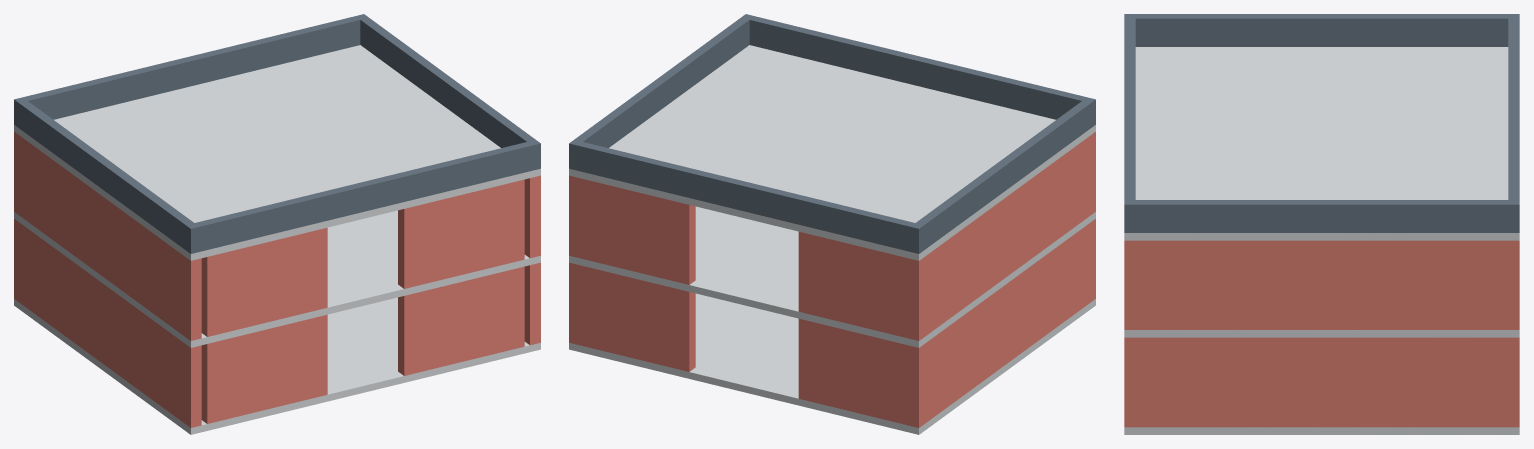
Rendered from building_multistory.glb.
3 renders of one model, left to right at view 1: azimuth 30°, elevation 25°; view 2: azimuth 150°, elevation 25°; view 3: azimuth 270°, elevation 25°, orthographic. The views are drawn at different scales.
Parts seen in each view (by area): view 1: SM_Building_MultiStory; view 2: SM_Building_MultiStory; view 3: SM_Building_MultiStory.
Part boxes in pixels (x1,y1,x2,y2): SM_Building_MultiStory: [14, 14, 540, 434]; SM_Building_MultiStory: [569, 14, 1095, 434]; SM_Building_MultiStory: [1124, 14, 1519, 434].
Bounding box in the file's own units: 16 × 9 × 14.
